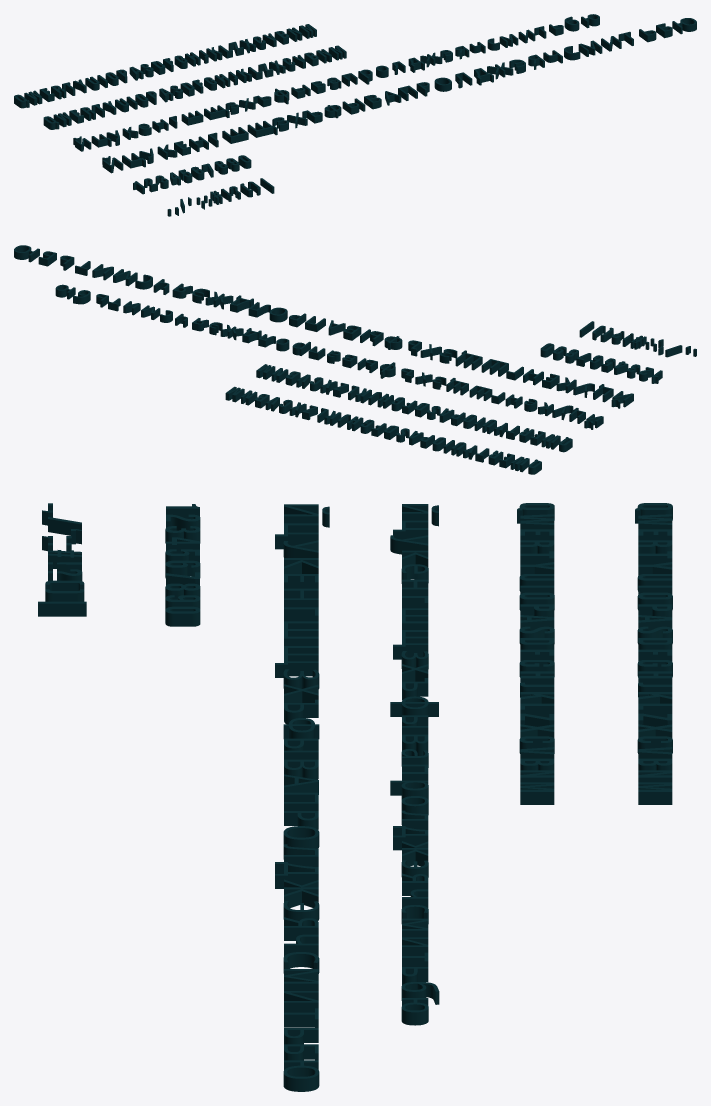
3 views of the same model, one above another, from view 1: azimuth 30°, elevation 25°; view 2: azimuth 150°, elevation 25°; view 3: azimuth 270°, elevation 25° (orthographic). The views are drawn at different scales.
Visible parts, largest first — view 1: Curve; view 2: Curve; view 3: Curve.
Part boxes in pixels (left/top/right/bottom): Curve: left=14, top=14, right=696, bottom=216; Curve: left=14, top=245, right=696, bottom=474; Curve: left=38, top=503, right=672, bottom=1091.
Bounding box in the file's own units: 0.1107 × 0.00118 × 0.0516.
